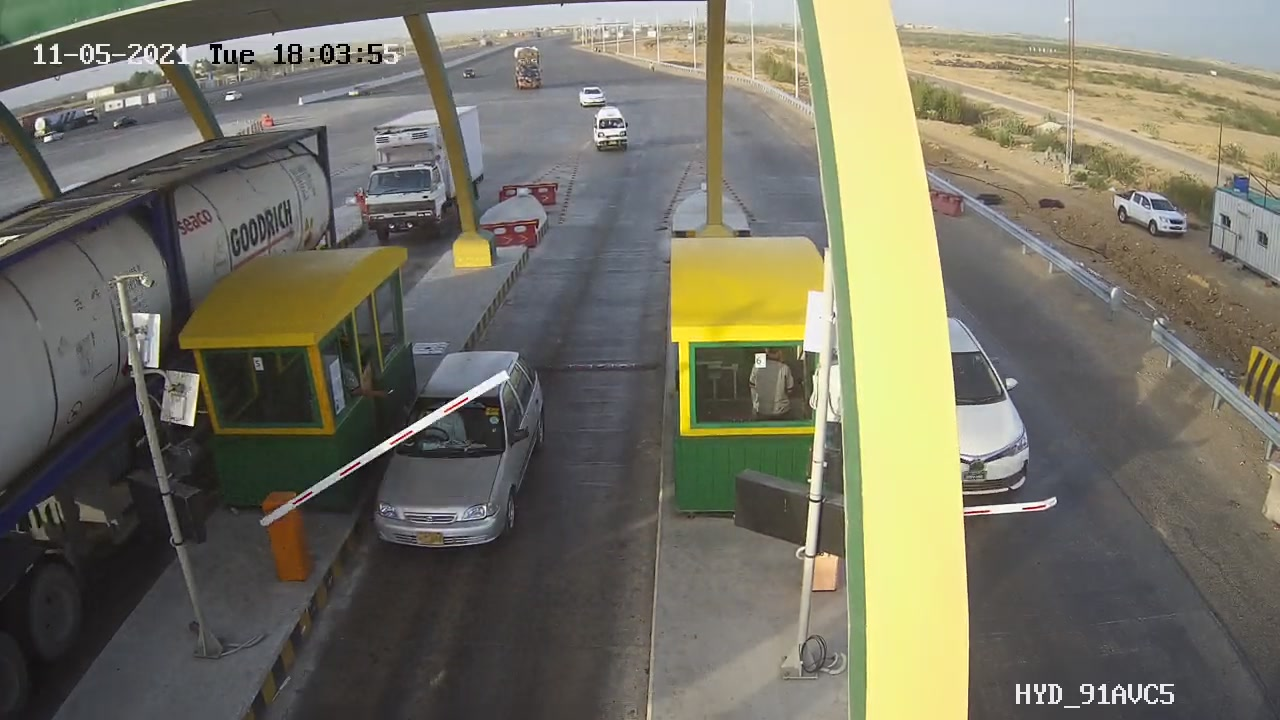F1: (348, 339, 570, 568)
